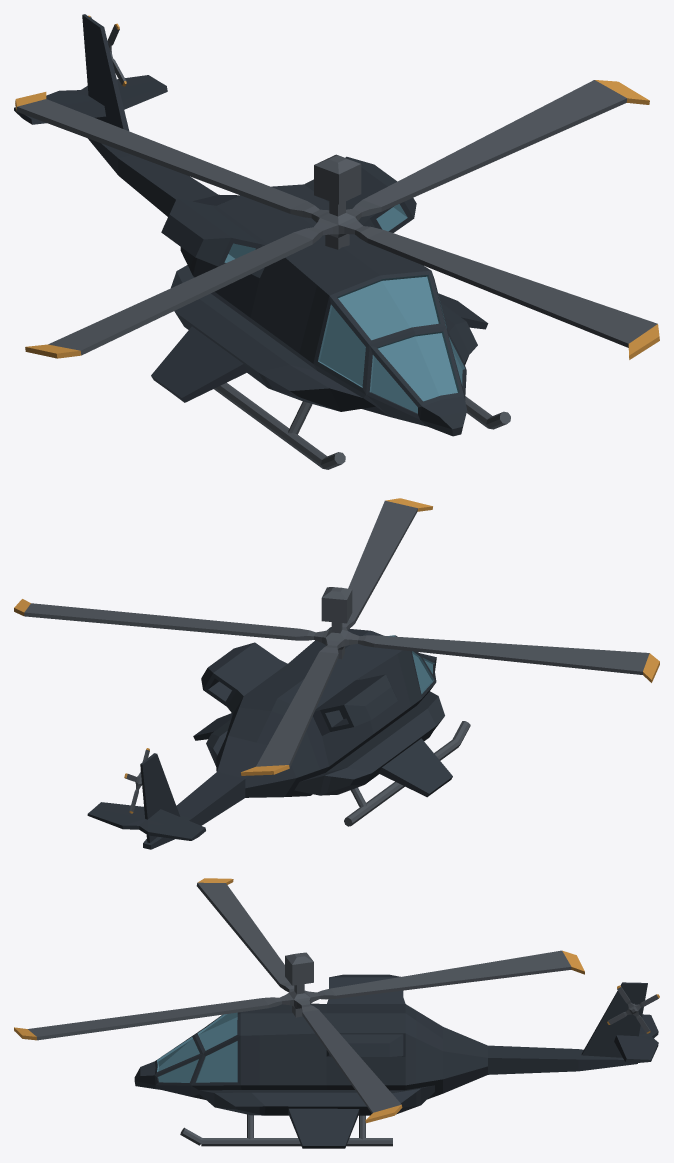
File: helicopter.glb
3 views of the same model, one above another, from view 1: azimuth 30°, elevation 25°; view 2: azimuth 150°, elevation 25°; view 3: azimuth 270°, elevation 25° (orthographic). The views are drawn at different scales.
Visible parts, largest first — view 1: rotor_main, cockpit, cabin, tail_fin, tail_boom, wing_left, skid_left, skid_right; view 2: rotor_main, cabin, tail_boom, tail_fin, cockpit, wing_left, skid_left; view 3: cabin, rotor_main, cockpit, tail_boom, tail_fin, wing_right, skid_right, rotor_tail.
Boxes of the visible parts, left/top/right/bottom form: rotor_main: left=15, top=80, right=659, bottom=359; cockpit: left=264, top=261, right=477, bottom=436; cabin: left=161, top=156, right=468, bottom=391; tail_fin: left=14, top=14, right=167, bottom=170; tail_boom: left=115, top=153, right=240, bottom=276; wing_left: left=151, top=333, right=234, bottom=402; skid_left: left=214, top=382, right=345, bottom=469; skid_right: left=465, top=396, right=510, bottom=429; rotor_main: left=14, top=498, right=659, bottom=775; cabin: left=201, top=640, right=437, bottom=796; tail_boom: left=176, top=707, right=331, bottom=825; tail_fin: left=87, top=753, right=205, bottom=849; cockpit: left=327, top=627, right=444, bottom=729; wing_left: left=388, top=744, right=452, bottom=797; skid_left: left=344, top=721, right=470, bottom=826; cabin: left=259, top=974, right=416, bottom=1120; rotor_main: left=14, top=878, right=584, bottom=1123; cockpit: left=134, top=1009, right=259, bottom=1115; tail_boom: left=416, top=1011, right=584, bottom=1106; tail_fin: left=584, top=982, right=658, bottom=1070; wing_right: left=290, top=1114, right=357, bottom=1148; skid_right: left=180, top=1114, right=392, bottom=1146; rotor_tail: left=607, top=985, right=659, bottom=1033.
Size of the model in its own units: 8.79 by 2.77 by 9.95.
